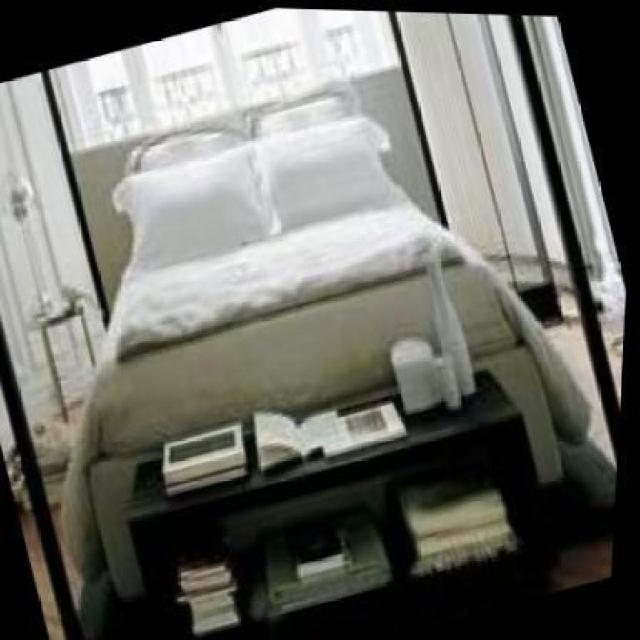tables: (89, 368, 549, 638)
